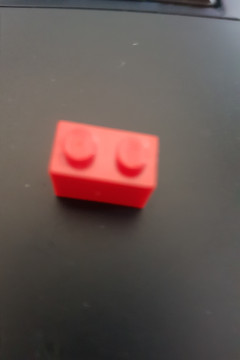1x2 red: (46, 118, 162, 216)
